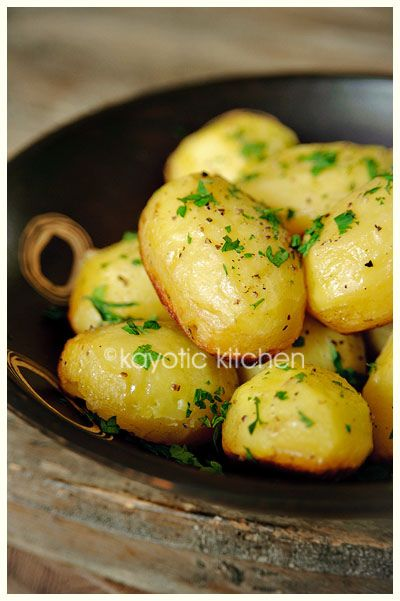boiled potatoes: (77, 319, 348, 459), (156, 180, 392, 331)
